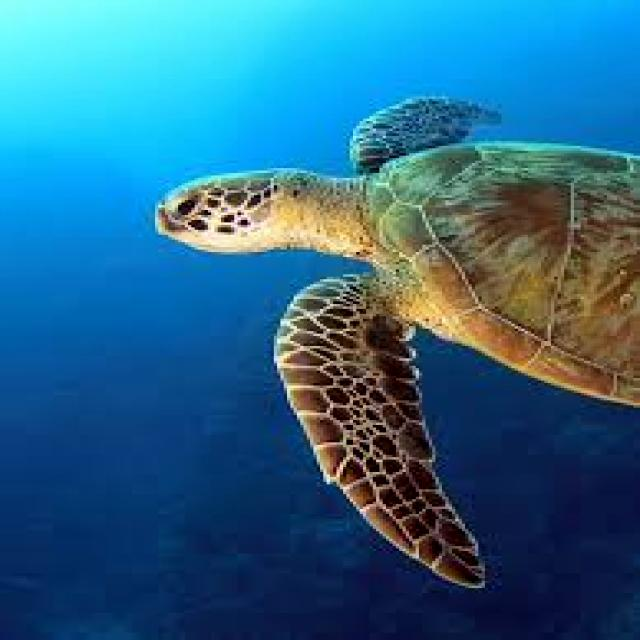Sea turtle: (84, 78, 640, 585)
